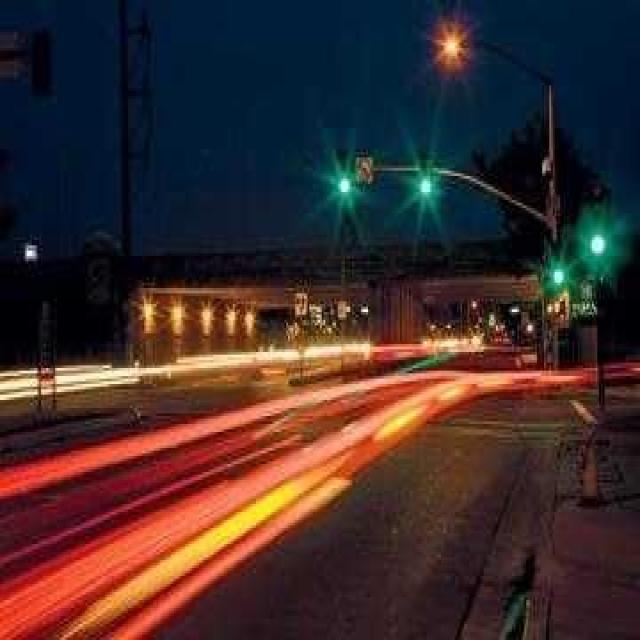Traffic Light -Green-: (588, 178, 612, 268), (548, 232, 568, 292), (336, 139, 354, 197)
